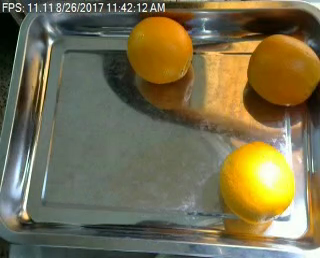Orange: (217, 141, 295, 222), (244, 34, 319, 106), (128, 15, 193, 82)
